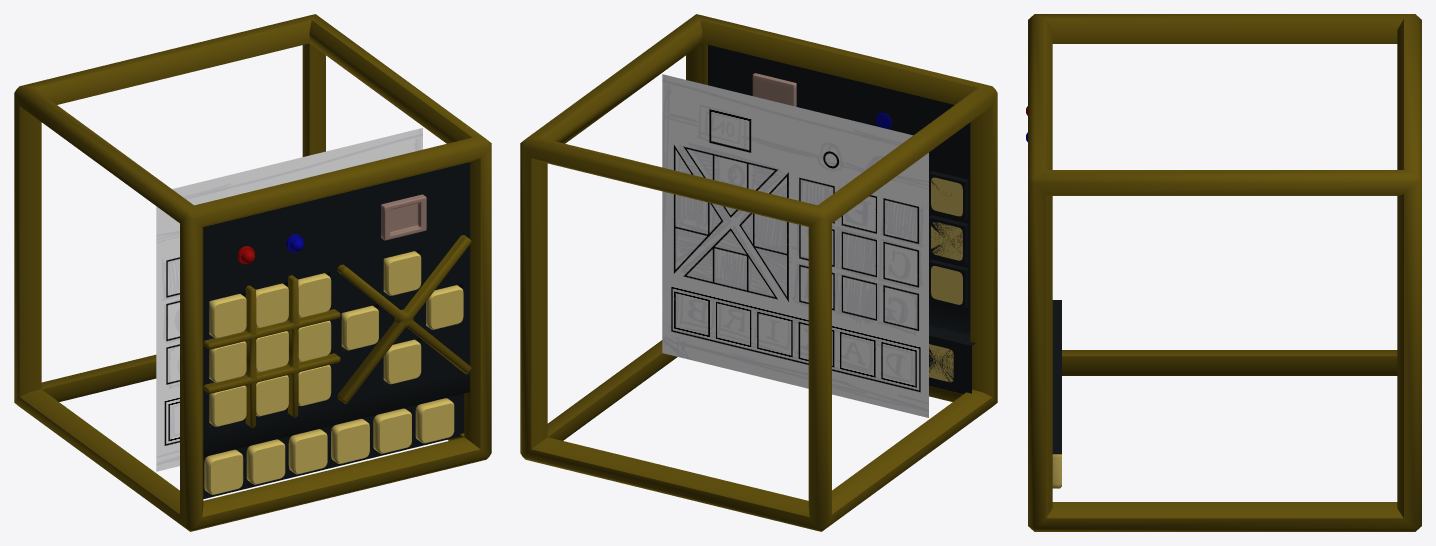
Rendered from Pigpen_P2_02.fbx.
3 renders of one model, left to right at view 1: azimuth 30°, elevation 25°; view 2: azimuth 150°, elevation 25°; view 3: azimuth 270°, elevation 25°, orthographic. The views are drawn at different scales.
Visible parts, largest first — view 1: Box067, Letter Slot Plane, Plane004, Tic Tac Toe Indicator, X Grid Indicator, ON001, Scrabble Piece001, Scrabble Piece002, Scrabble Piece003, Scrabble Piece006, Scrabble Piece004, Scrabble Piece005 (+13 smaller); view 2: Box067, Plane004, Letter Slot Plane, ON001, Scrabble Piece010, Scrabble Piece008, Scrabble Piece, Scrabble Piece001; view 3: Box067, Letter Slot Plane.
Part boxes in pixels (x1=…): Box067: x1=14, y1=14, x2=491, y2=531; Letter Slot Plane: x1=203, y1=162, x2=469, y2=499; Plane004: x1=156, y1=128, x2=422, y2=471; Tic Tac Toe Indicator: x1=203, y1=275, x2=340, y2=427; X Grid Indicator: x1=337, y1=235, x2=471, y2=403; ON001: x1=381, y1=194, x2=426, y2=240; Scrabble Piece001: x1=204, y1=449, x2=243, y2=494; Scrabble Piece002: x1=246, y1=439, x2=285, y2=484; Scrabble Piece003: x1=288, y1=429, x2=327, y2=474; Scrabble Piece006: x1=415, y1=398, x2=454, y2=443; Scrabble Piece004: x1=331, y1=418, x2=369, y2=463; Scrabble Piece005: x1=373, y1=408, x2=411, y2=453; Box067: x1=520, y1=14, x2=997, y2=531; Plane004: x1=662, y1=74, x2=928, y2=417; Letter Slot Plane: x1=708, y1=45, x2=975, y2=393; ON001: x1=752, y1=73, x2=796, y2=106; Scrabble Piece010: x1=931, y1=177, x2=962, y2=216; Scrabble Piece008: x1=931, y1=266, x2=962, y2=304; Scrabble Piece: x1=931, y1=222, x2=962, y2=260; Scrabble Piece001: x1=929, y1=344, x2=953, y2=382; Box067: x1=1028, y1=14, x2=1421, y2=531; Letter Slot Plane: x1=1052, y1=300, x2=1061, y2=454.
Bounding box in the file's own units: 126 × 126 × 127.
7 materials, 1 textured.
